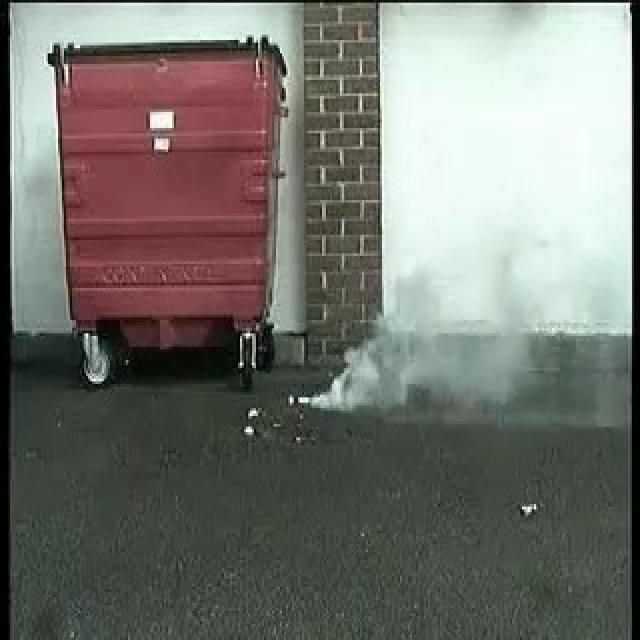smoke: (327, 278, 554, 412)
